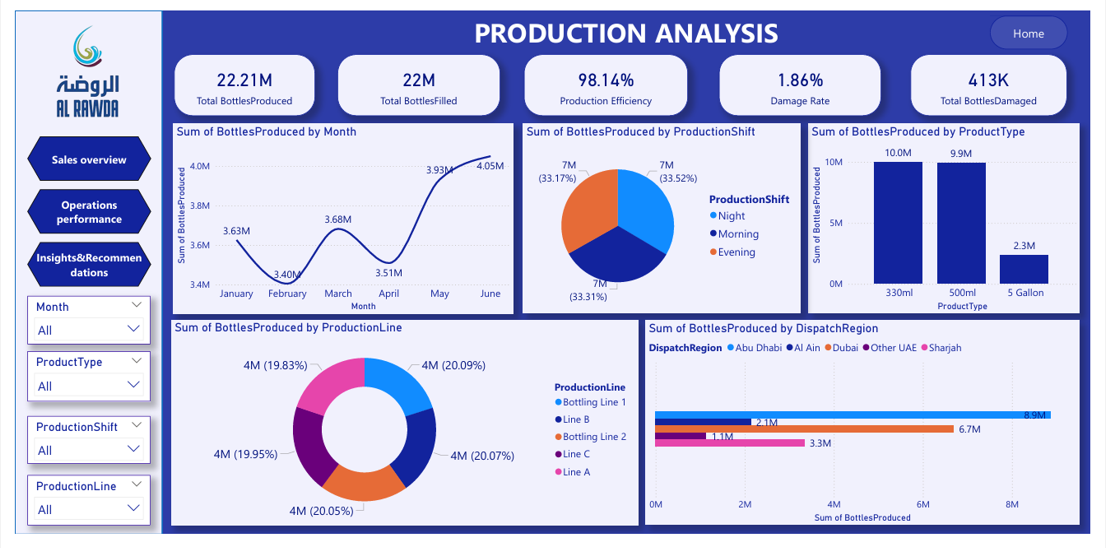

What the dashboard file says about the page in this screenshot:
{"tool":"powerbi","page":{"name":"Production analysis","canvas":[1730,840],"ordinal":1},"visuals":[{"type":"group","id":"g1","title":"Group 1","box":[0,0,237,840.7],"z":0},{"type":"shape","box":[0,0,237,840.7],"z":0,"group":"g1"},{"type":"textbox","box":[236.7,0,1493.3,70],"z":1000,"group":"g2"},{"type":"pageNavigator","box":[20.4,201.9,198.1,242.6],"z":1000},{"type":"card","fields":{"Values":["Sum(Table1.BottlesProduced)"]},"box":[255.6,70.4,227.8,98.1],"z":2000},{"type":"card","fields":{"Values":["Sum(Table1.BottlesFilled)"]},"box":[518.5,70.4,263,98.1],"z":3000},{"type":"card","fields":{"Values":["Table1.Damage Rate"]},"box":[1133.3,70.4,261.1,98.1],"z":4000},{"type":"card","fields":{"Values":["Sum(Table1.BottlesDamaged)"]},"box":[1440.7,70.4,251.9,98.1],"z":5000},{"type":"card","fields":{"Values":["Table1.Production Efficiency"]},"box":[818.5,70.4,264.8,98.1],"z":6000},{"type":"lineChart","fields":{"Category":["Table1.Date.Variation.Date Hierarchy.Month"],"Y":["Sum(Table1.BottlesProduced)"]},"box":[255,181.7,548.3,306.7],"z":7000},{"type":"columnChart","fields":{"Category":["Table1.ProductType"],"Y":["Sum(Table1.BottlesProduced)"]},"box":[1276.7,181.7,436.7,305],"z":8000},{"type":"pieChart","fields":{"Category":["Table1.ProductionShift"],"Y":["Sum(Table1.BottlesProduced)"]},"box":[818.3,181.7,446.7,305],"z":9000},{"type":"donutChart","fields":{"Category":["Table1.ProductionLine"],"Y":["Sum(Table1.BottlesProduced)"]},"box":[251.7,496.7,751.7,330],"z":10000},{"type":"clusteredBarChart","fields":{"Y":["Sum(Table1.BottlesProduced)"],"Series":["Table1.DispatchRegion"]},"box":[1015,498.3,698.3,328.3],"z":11000},{"type":"slicer","fields":{"Values":["Table1.Date.Variation.Date Hierarchy.Month"]},"box":[19.8,458,198.4,77.7],"z":12000},{"type":"slicer","fields":{"Values":["Table1.ProductType"]},"box":[19.8,547.3,198.4,81],"z":13000},{"type":"slicer","fields":{"Values":["Table1.ProductionShift"]},"box":[19.8,651.5,198.4,76.1],"z":14000},{"type":"slicer","fields":{"Values":["Table1.ProductionLine"]},"box":[19.8,745.7,198.4,81],"z":15000},{"type":"image","box":[5.6,0,227.8,201.9],"z":15500,"group":"g1"},{"type":"group","id":"g2","title":"Group 2","box":[236.7,0,1493.3,70],"z":16000},{"type":"pageNavigator","box":[1568.4,8.3,125,53.3],"z":16001,"group":"g2"}]}

Visuals, with their boxes in screenshot pixels (x1, y1, x2, y2), scaled from the page's 1730x840 canvas onto the 1106x548 screenshot:
"Group 1" group: 0:0:152:547
shape: 0:0:152:547
textbox: 151:0:1105:46
pageNavigator: 13:132:140:290
card - Sum(Table1.BottlesProduced): 163:46:309:110
card - Sum(Table1.BottlesFilled): 331:46:500:110
card - Table1.Damage Rate: 725:46:891:110
card - Sum(Table1.BottlesDamaged): 921:46:1082:110
card - Table1.Production Efficiency: 523:46:693:110
lineChart - Table1.Date.Variation.Date Hierarchy.Month x Sum(Table1.BottlesProduced): 163:119:514:319
columnChart - Table1.ProductType x Sum(Table1.BottlesProduced): 816:119:1095:318
pieChart - Table1.ProductionShift x Sum(Table1.BottlesProduced): 523:119:809:318
donutChart - Table1.ProductionLine x Sum(Table1.BottlesProduced): 161:324:641:539
clusteredBarChart - Sum(Table1.BottlesProduced) x Table1.DispatchRegion: 649:325:1095:539
slicer - Table1.Date.Variation.Date Hierarchy.Month: 13:299:139:349
slicer - Table1.ProductType: 13:357:139:410
slicer - Table1.ProductionShift: 13:425:139:475
slicer - Table1.ProductionLine: 13:486:139:539
image: 4:0:149:132
"Group 2" group: 151:0:1105:46
pageNavigator: 1003:5:1083:40
